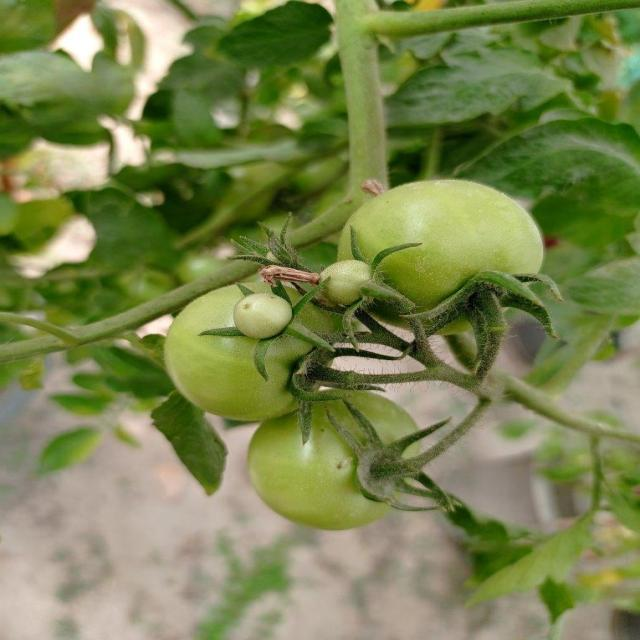Unripe: (347, 179, 546, 328), (251, 387, 420, 529)
